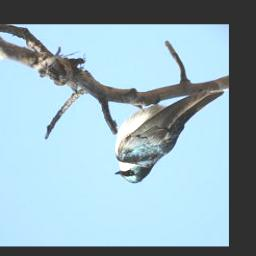Swallow: (112, 89, 225, 186)
